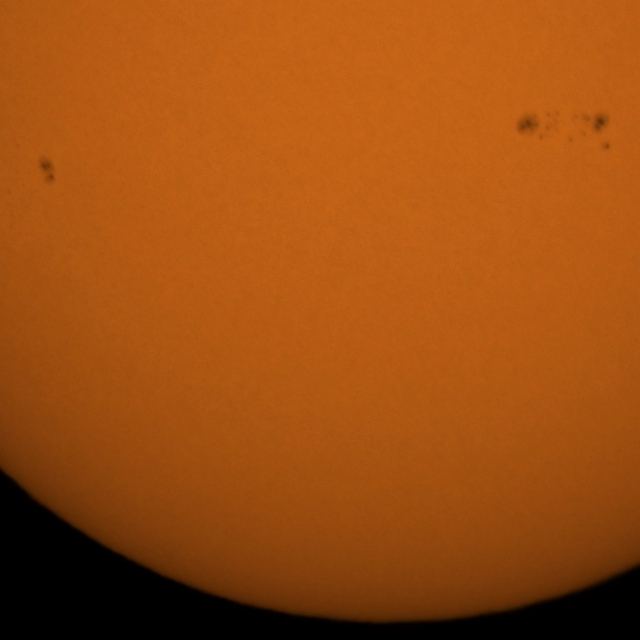sunspot: (566, 113, 612, 149), (516, 110, 556, 140), (37, 157, 57, 186), (601, 139, 612, 152)
